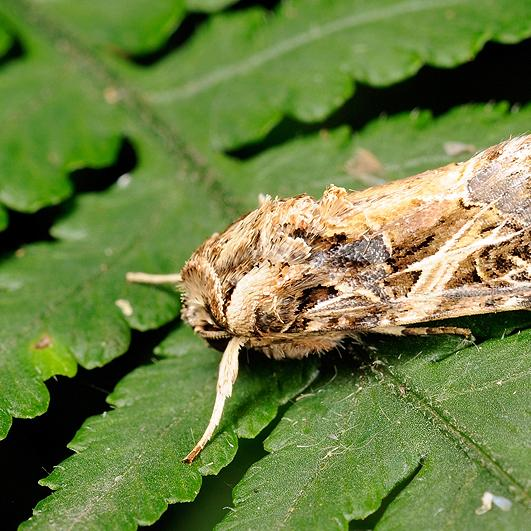Spodoptera litura: (125, 129, 531, 466)
